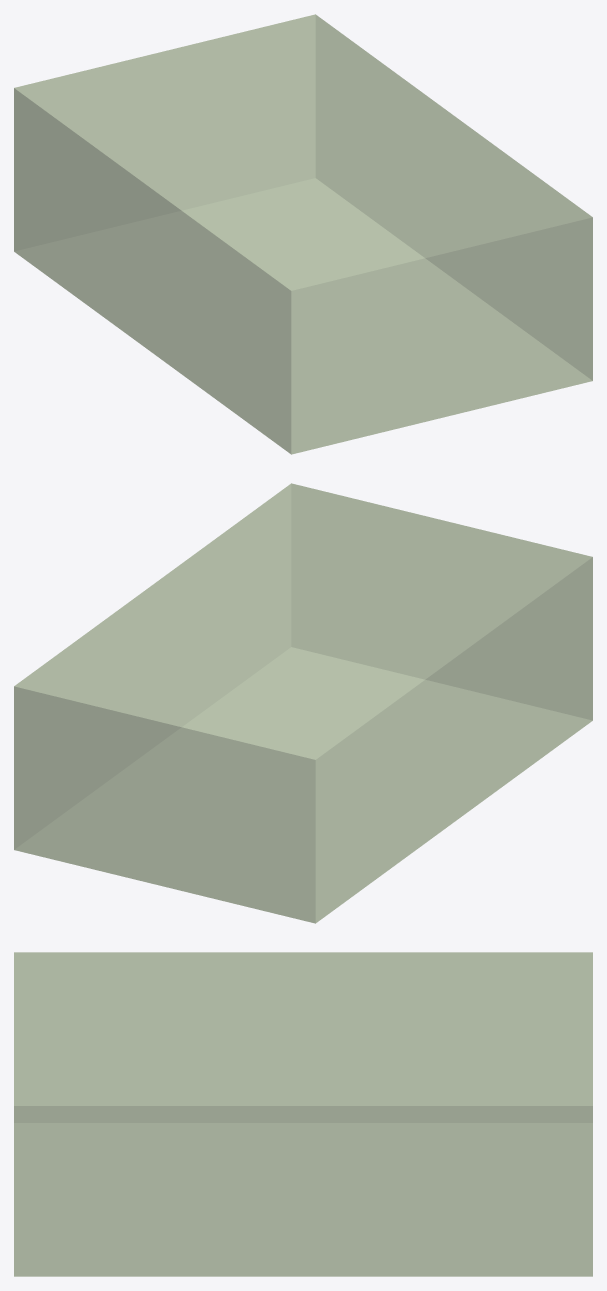
The model's file is blockout.glb.
3 renders of one model, top to bottom at view 1: azimuth 30°, elevation 25°; view 2: azimuth 150°, elevation 25°; view 3: azimuth 270°, elevation 25°, orthographic. The views are drawn at different scales.
Visible parts, largest first — view 1: U02_ENVELOPE_NOT_FINAL_MESH; view 2: U02_ENVELOPE_NOT_FINAL_MESH; view 3: U02_ENVELOPE_NOT_FINAL_MESH.
Boxes of the visible parts, x1=… form: U02_ENVELOPE_NOT_FINAL_MESH: x1=14, y1=14, x2=592, y2=454; U02_ENVELOPE_NOT_FINAL_MESH: x1=14, y1=483, x2=592, y2=923; U02_ENVELOPE_NOT_FINAL_MESH: x1=14, y1=952, x2=592, y2=1276.
Size of the model in its own units: 1.35 by 0.7 by 2.15.
